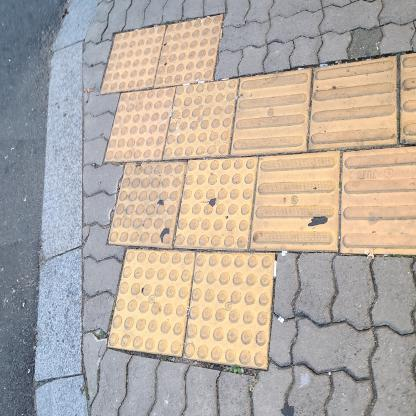podotacti: (96, 9, 416, 376)
